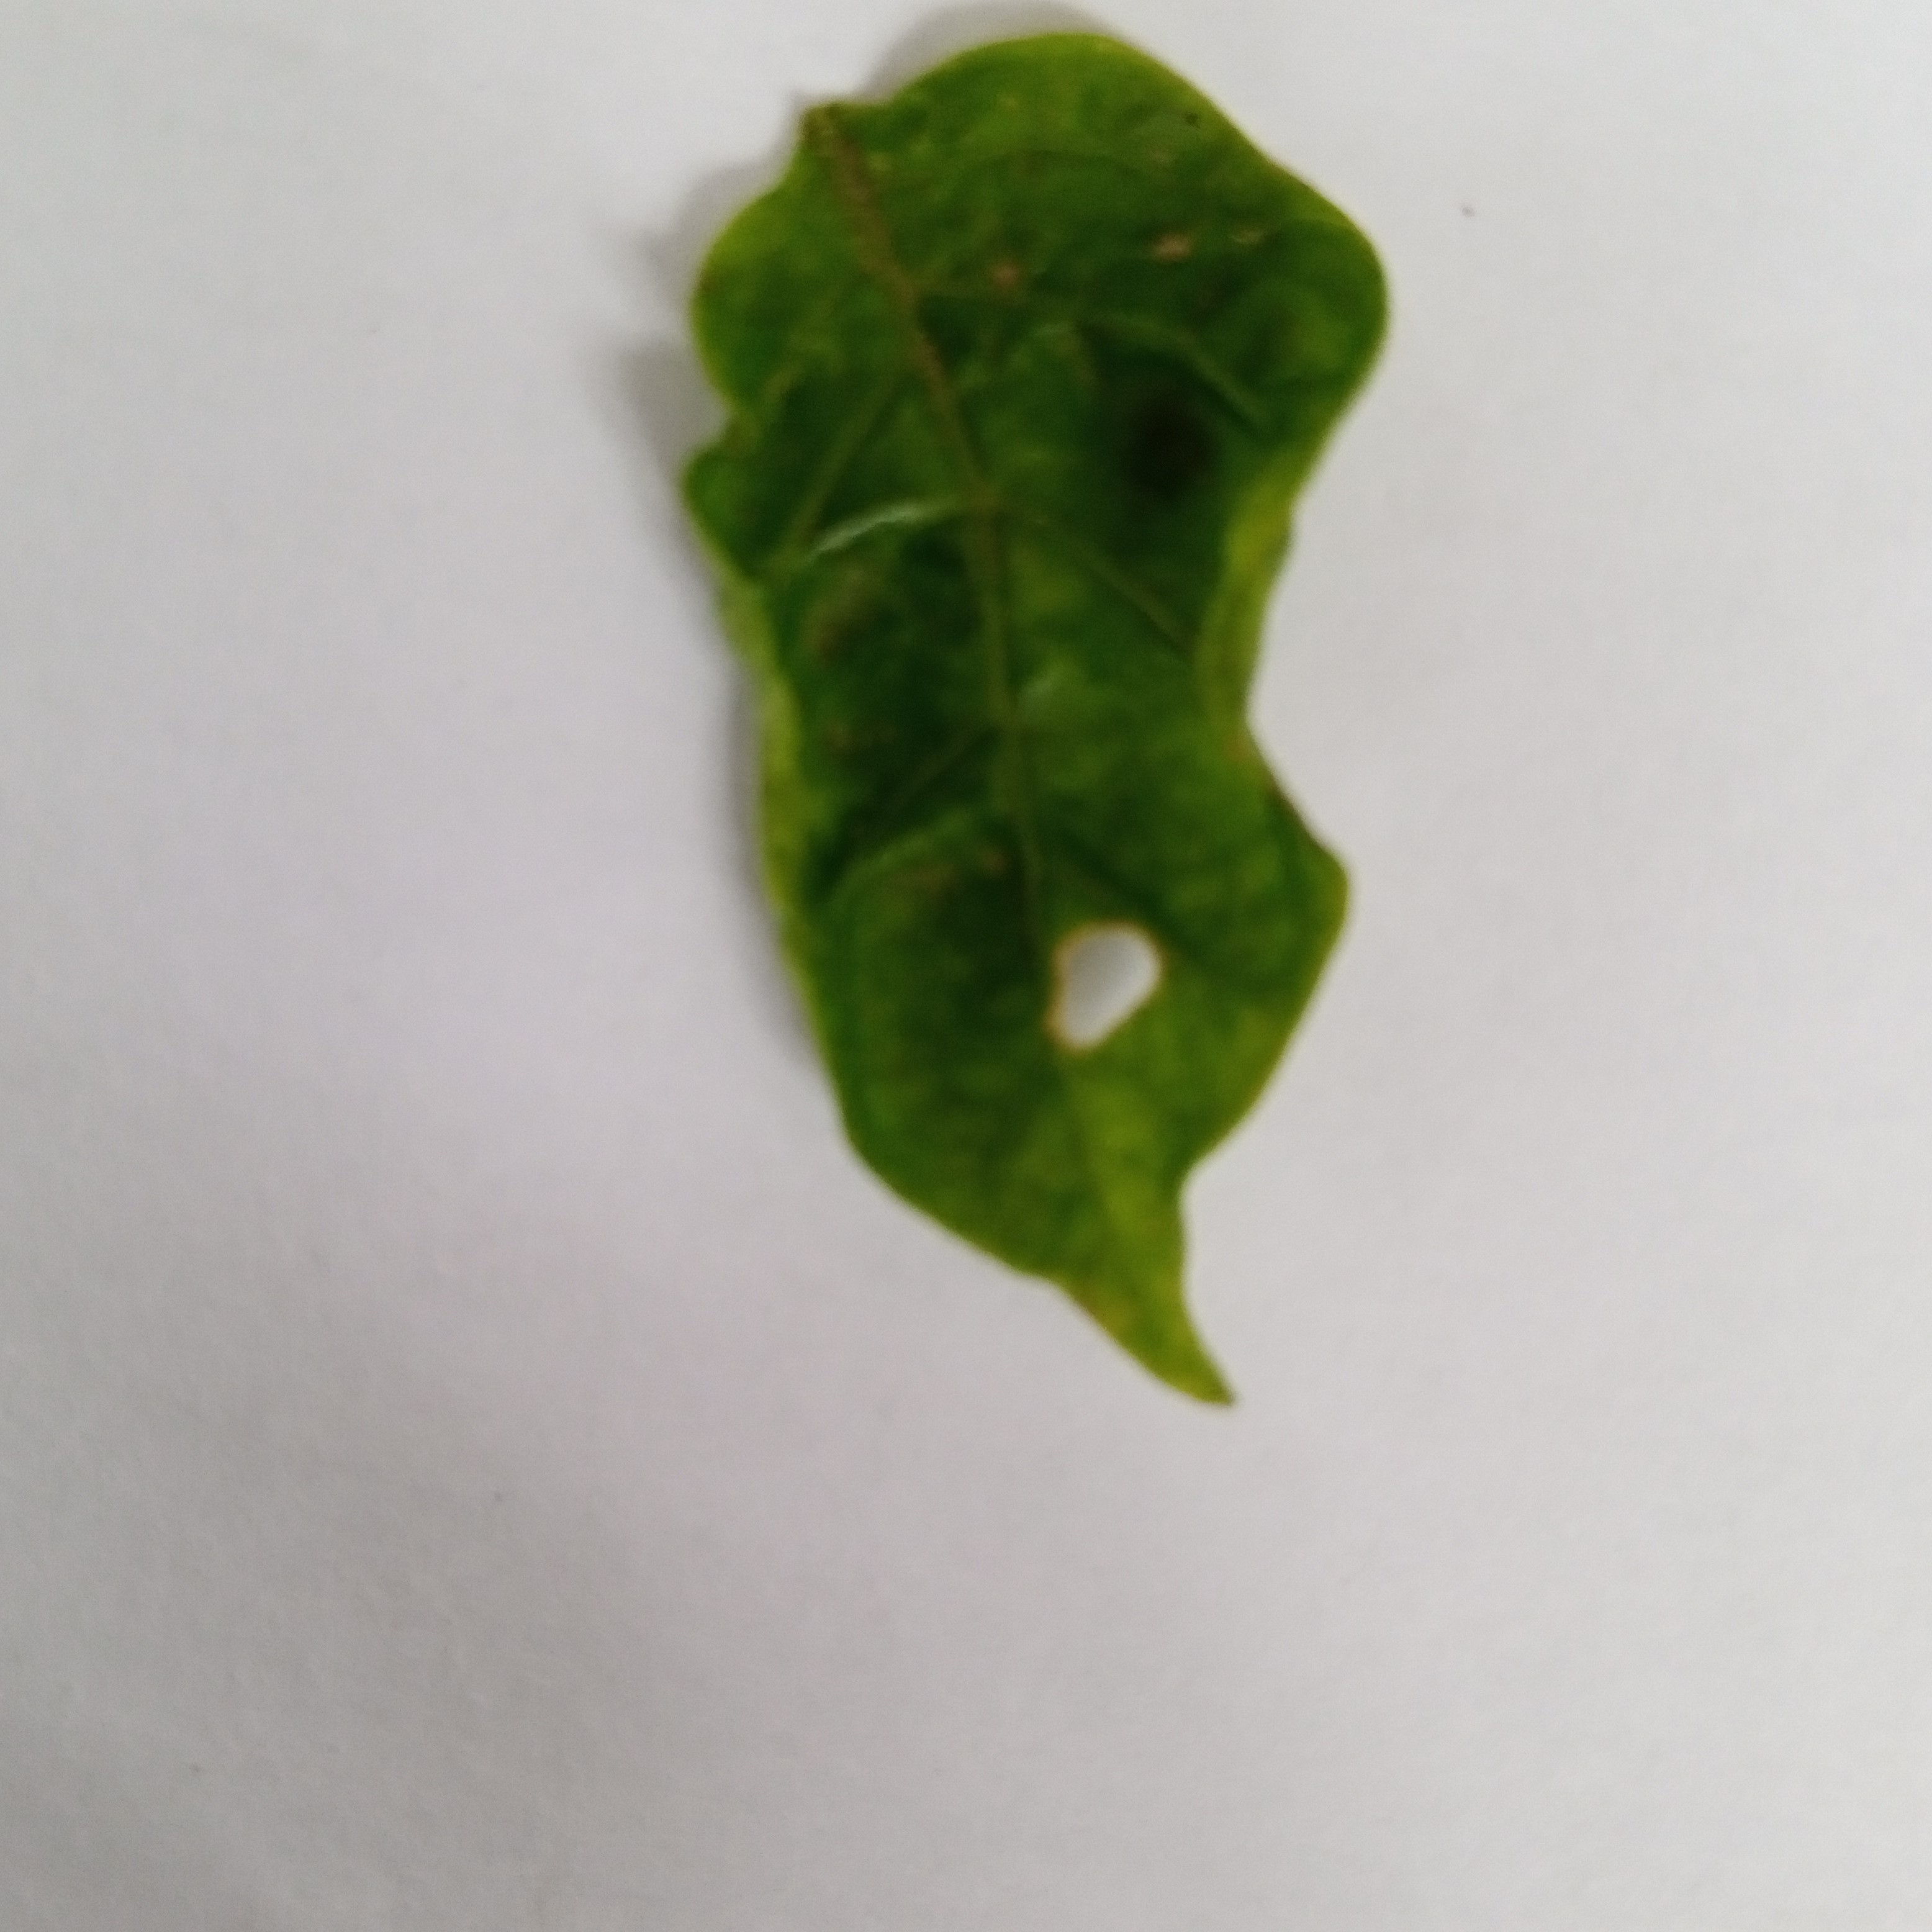Leaf: (423, 28, 1654, 1532)
